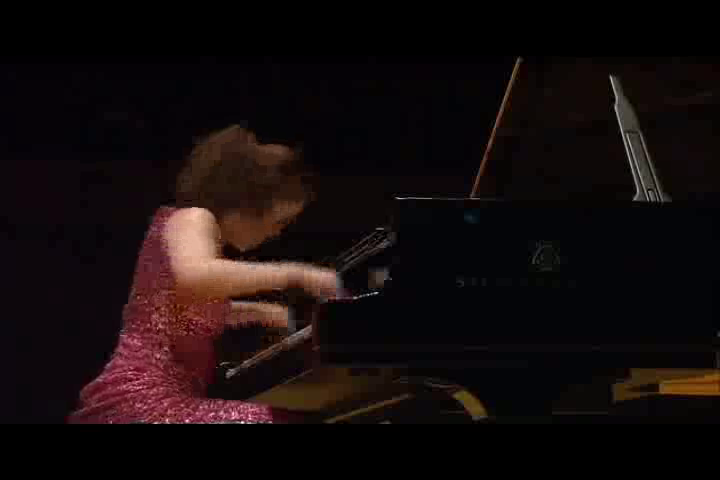keyboard: (221, 320, 318, 386)
